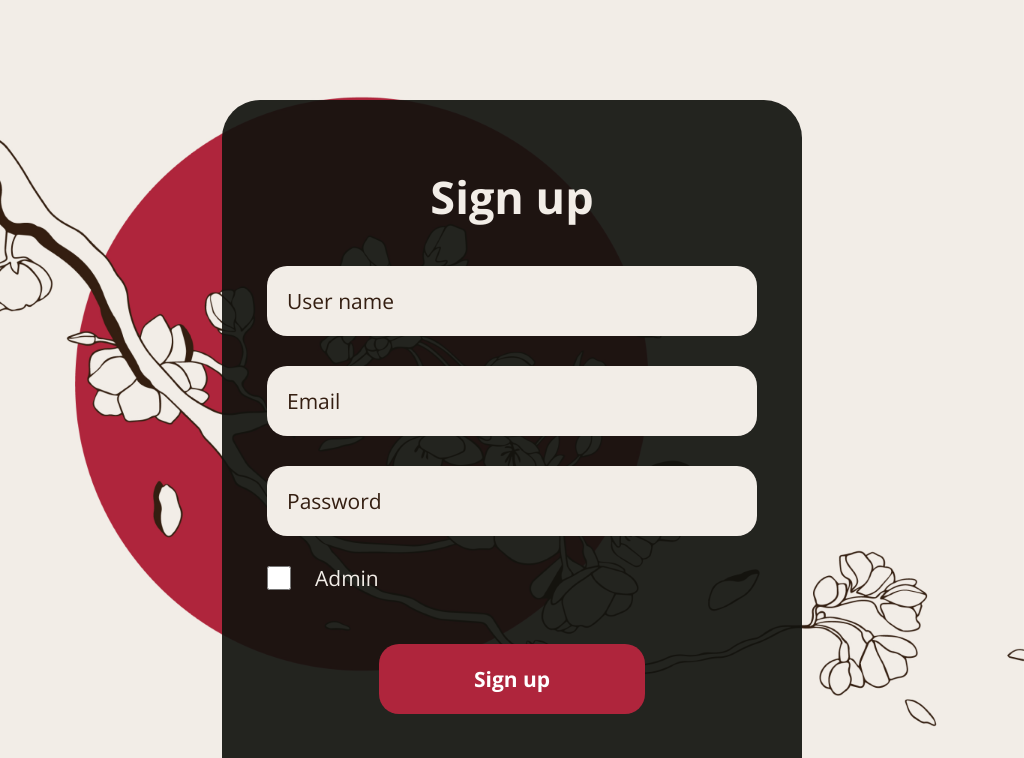
Test case: Test SignUp component › should display error messages if form fields are empty
Click the button "Sign up".
click(512, 679)  # box [379,644,645,714]
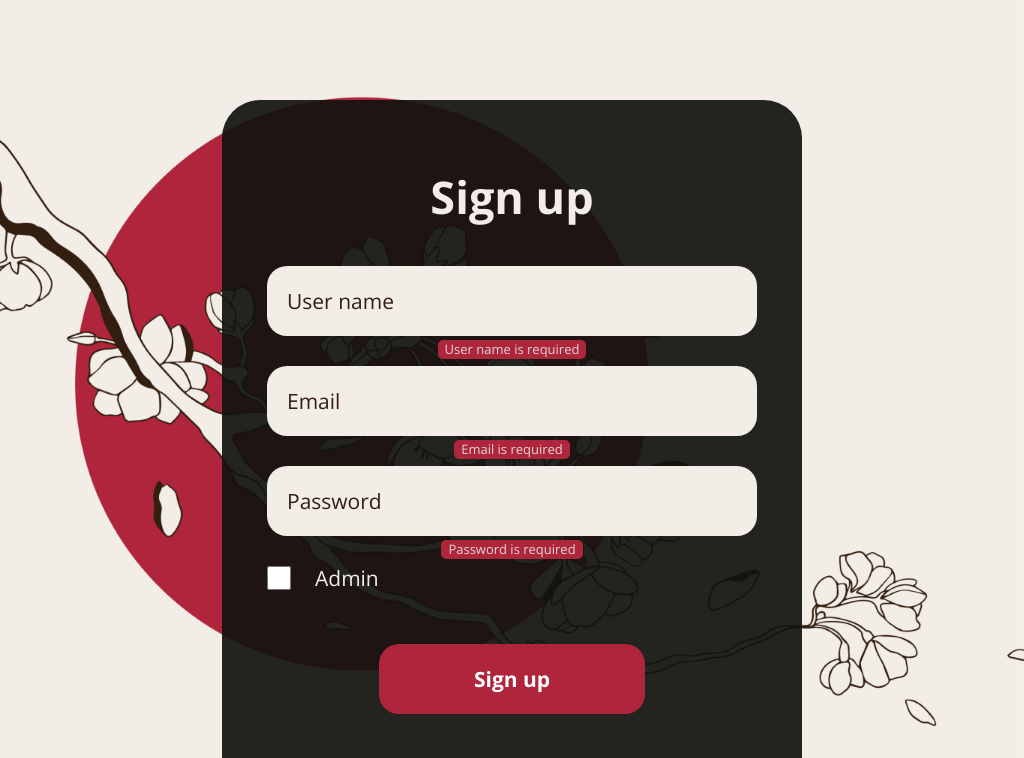
Expected: the text "User name is required" is shown, [438,340,586,359]
Expected: the text "Email is required" is shown, [454,440,570,459]
Expected: the text "Password is required" is shown, [441,540,583,559]
